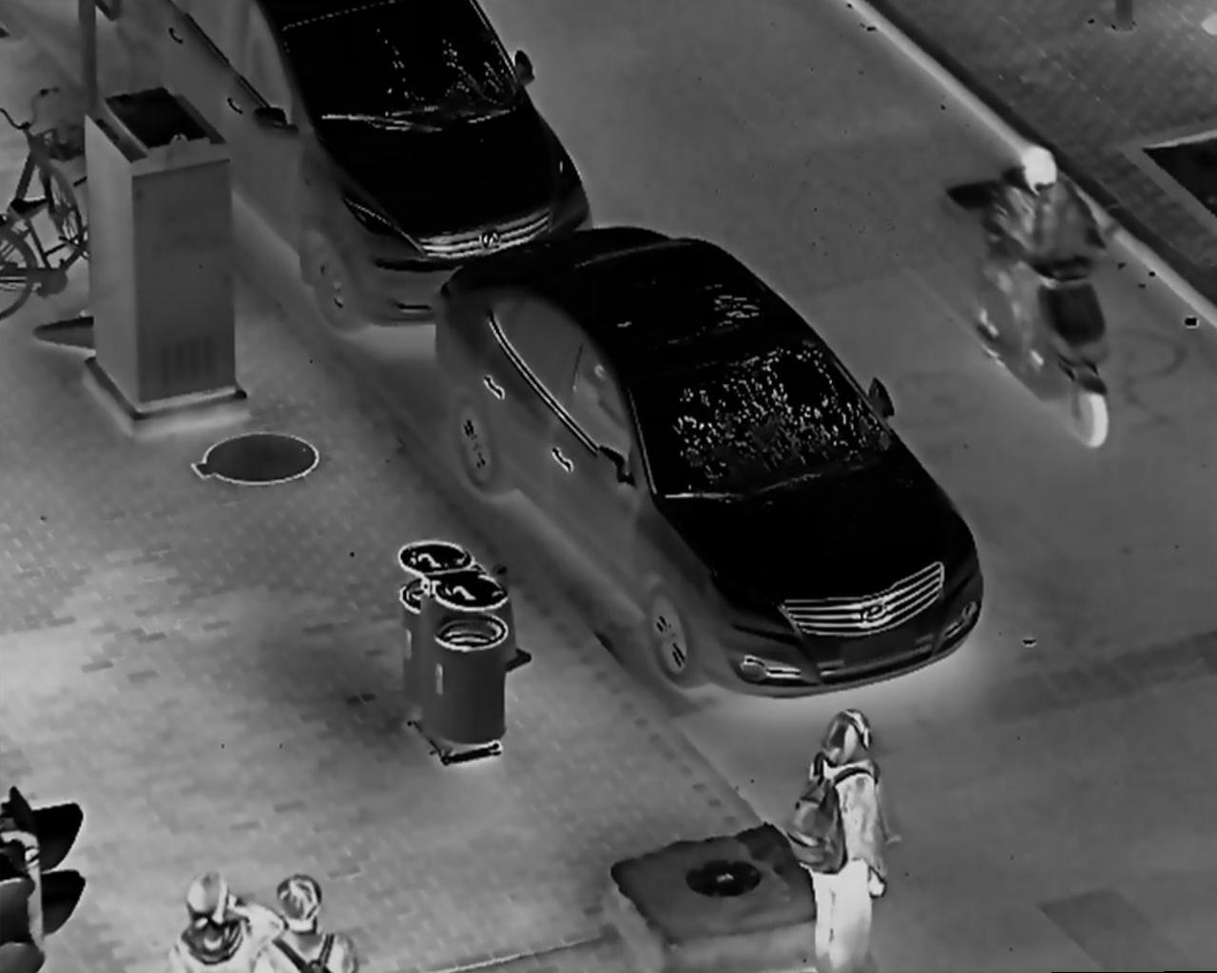person: (783, 706, 906, 973), (976, 143, 1109, 389), (174, 871, 280, 973), (253, 874, 359, 973)
